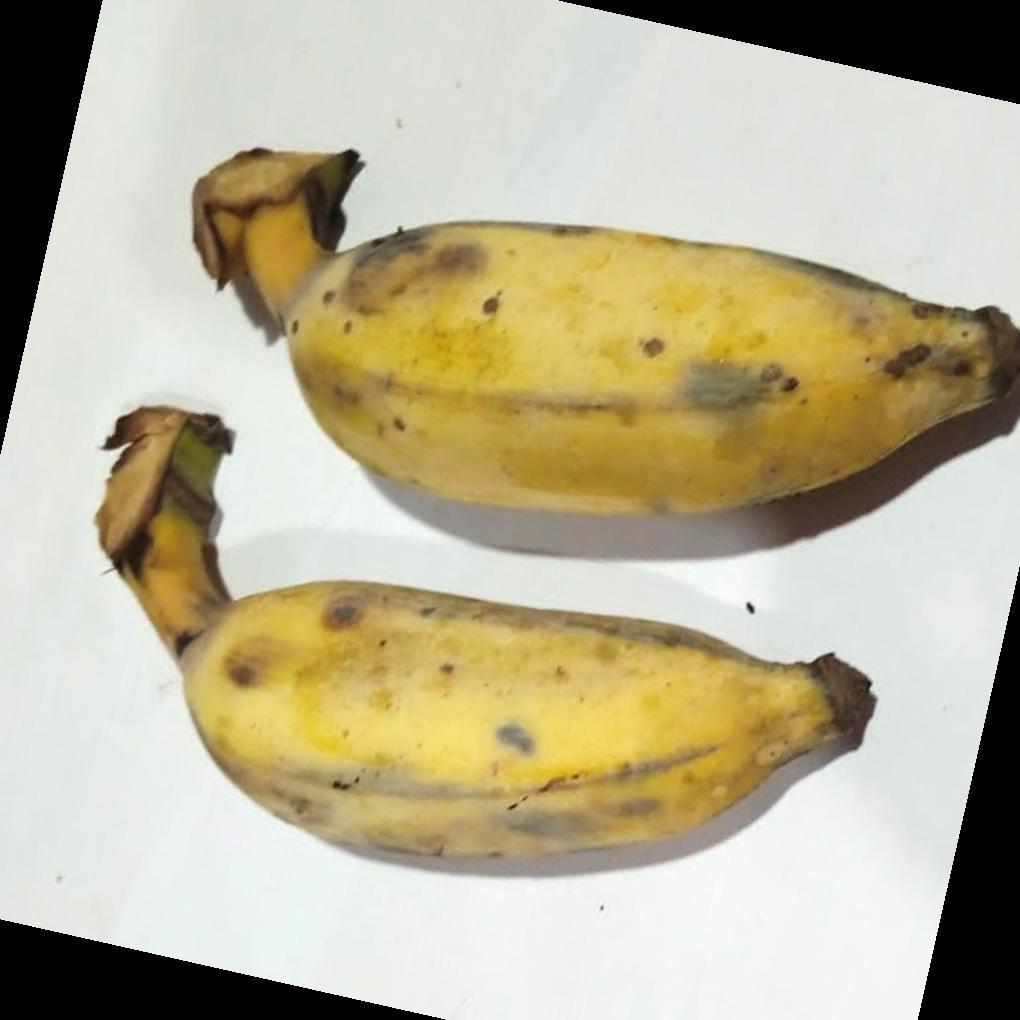Banana Ripe: (313, 198, 1020, 585), (149, 554, 903, 907)
